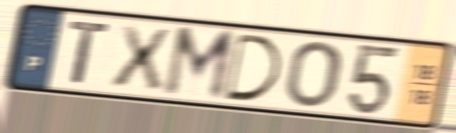5: (345, 41, 402, 116)
D: (223, 31, 285, 104)
M: (159, 24, 239, 104)
O: (283, 38, 344, 110)
T: (66, 19, 114, 87)
X: (108, 22, 174, 92)
